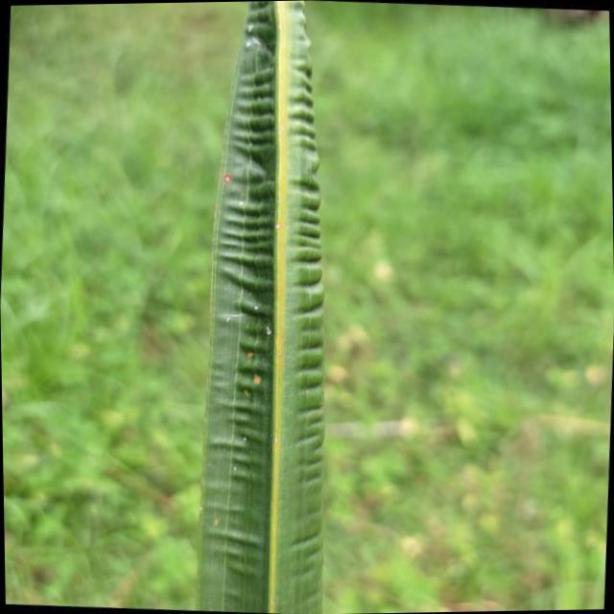Boron: (192, 0, 329, 614)
